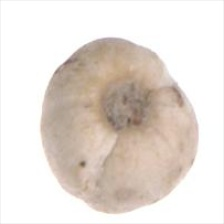L4: (40, 37, 200, 214)
